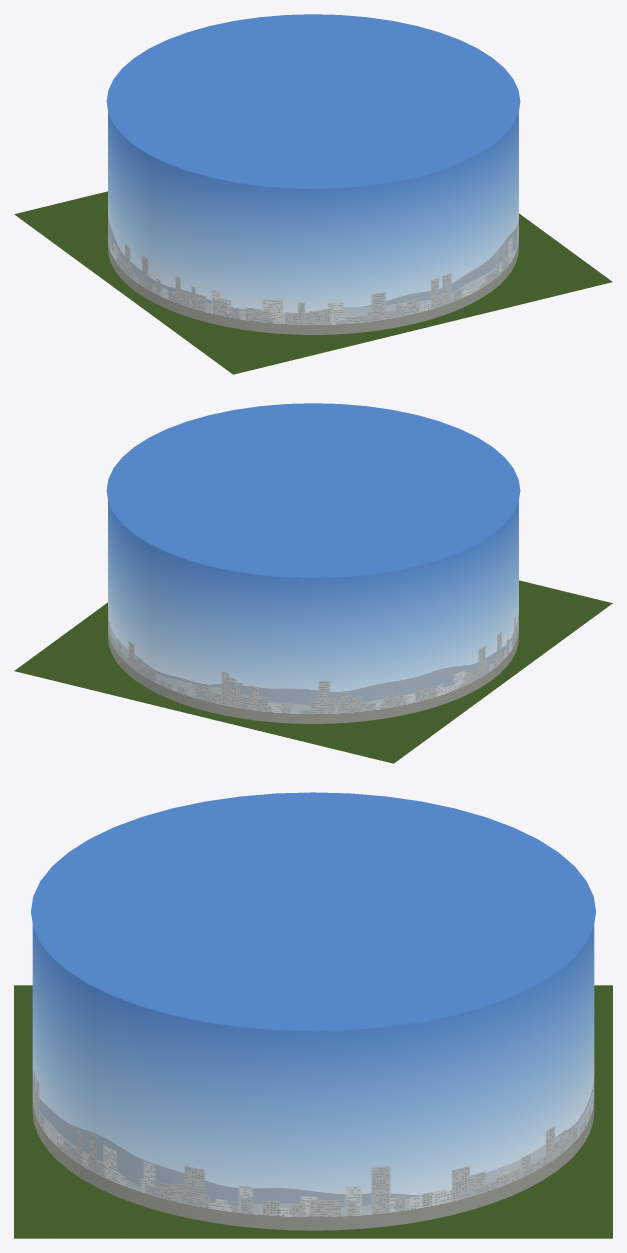
The model's file is apartment.glb.
3 renders of one model, top to bottom at view 1: azimuth 30°, elevation 25°; view 2: azimuth 150°, elevation 25°; view 3: azimuth 270°, elevation 25°, orthographic. The views are drawn at different scales.
Visible parts, largest first — view 1: Mesh~398, Mesh~399, Mesh~403; view 2: Mesh~398, Mesh~399, Mesh~403; view 3: Mesh~398, Mesh~399, Mesh~403.
Part boxes in pixels (x1,y1,x2,y2): Mesh~398: [108, 112, 518, 334]; Mesh~399: [106, 14, 520, 188]; Mesh~403: [14, 191, 612, 374]; Mesh~398: [108, 501, 518, 723]; Mesh~399: [106, 403, 520, 577]; Mesh~403: [14, 580, 612, 763]; Mesh~398: [32, 925, 594, 1230]; Mesh~399: [31, 792, 595, 1031]; Mesh~403: [14, 985, 612, 1238].
Size of what is drawn, in the model's own units: 320 by 120 by 320.
201 materials, 58 textured.
